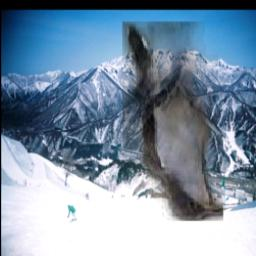Cuckoo: (123, 21, 224, 221)
